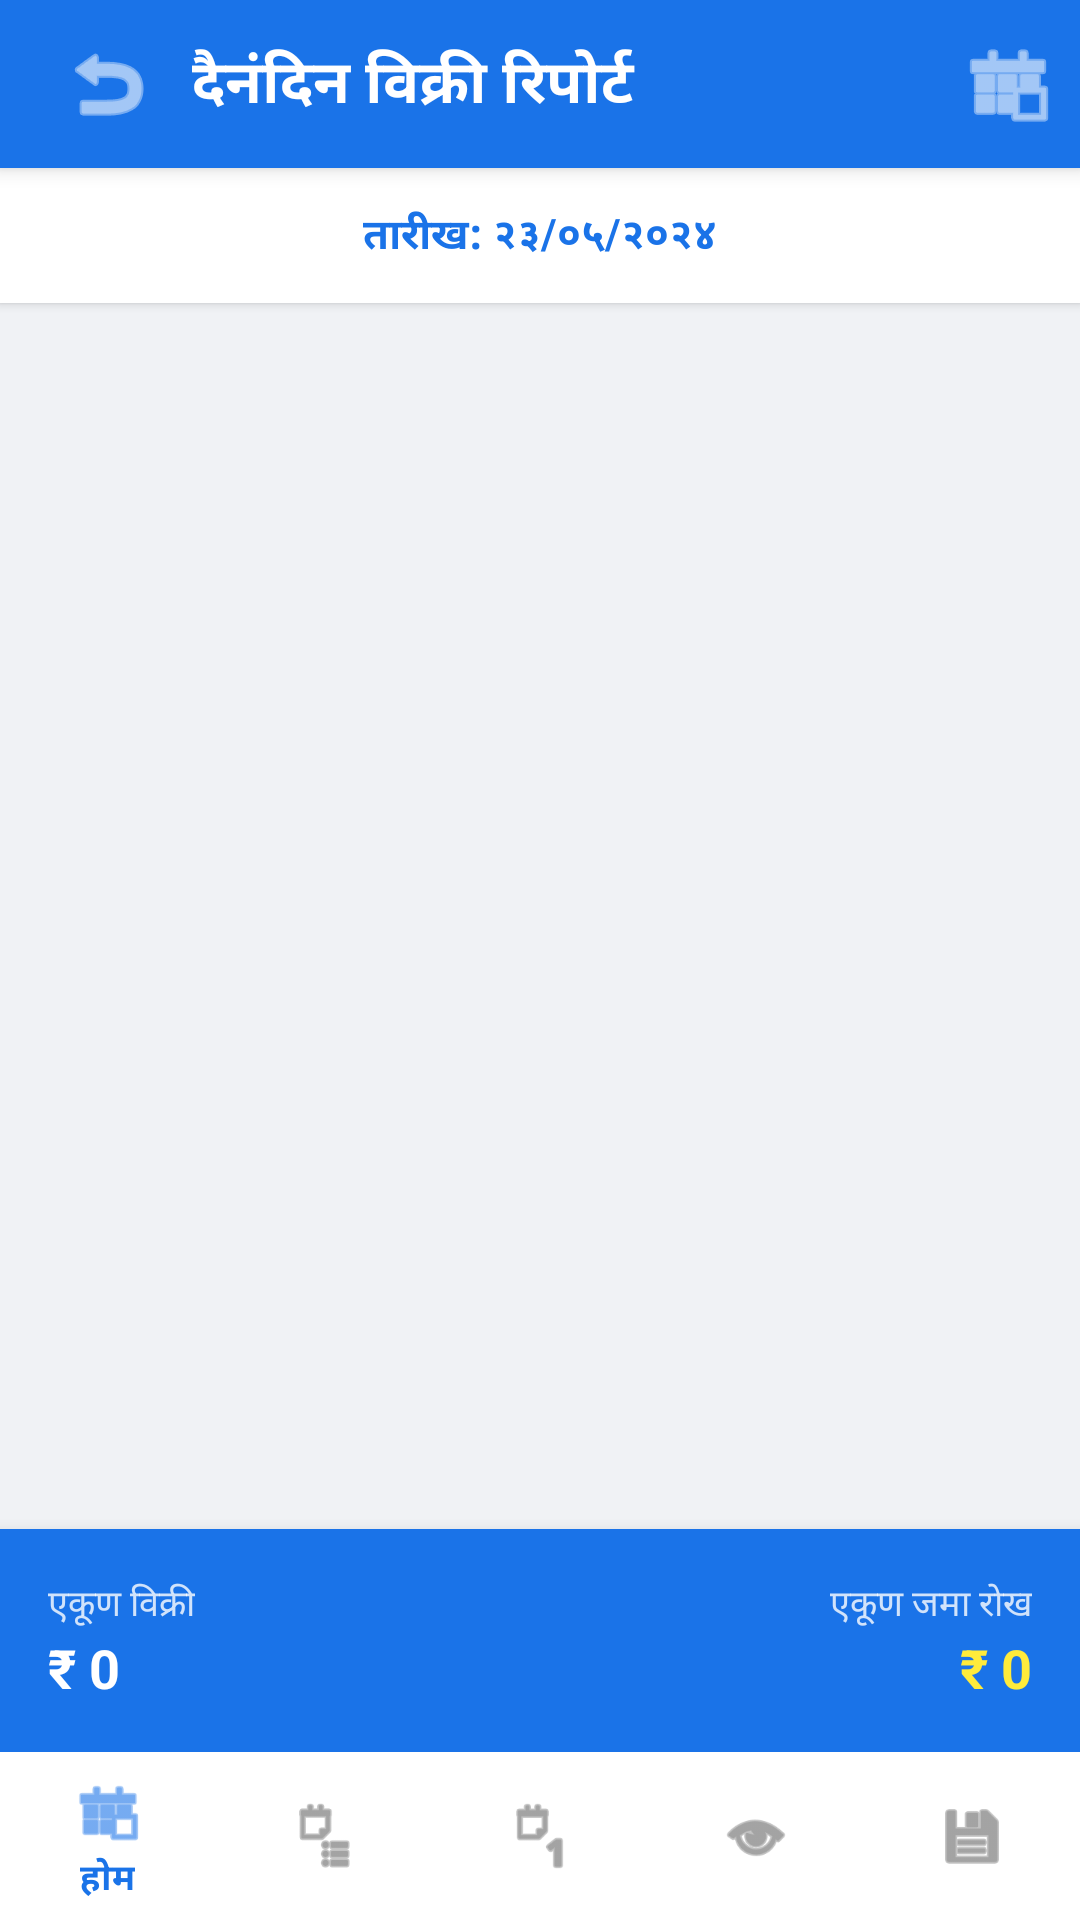

Named icons in this screenshot (1080*1920) and their bounding boxes, (x1, y1, x2, y2):
तारीख निवडा: (970, 49, 1048, 122)
मागे जा: (75, 53, 144, 116)
